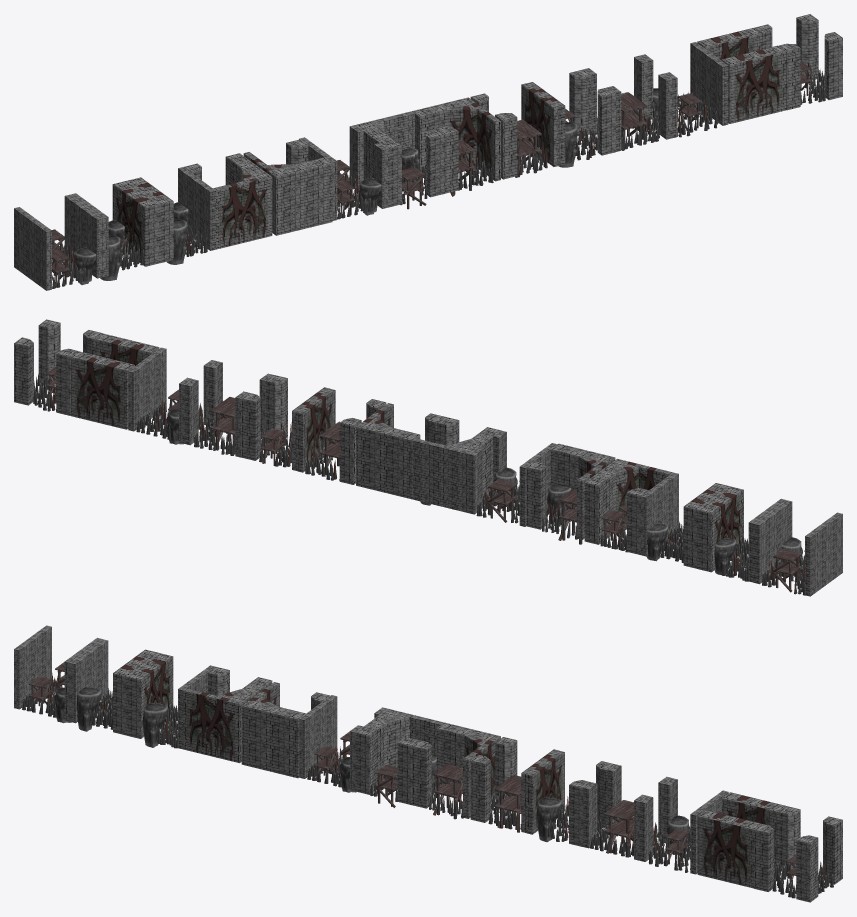
File: stage_asset.fbx
The picture shows the model from 3 angles, top to bottom: view 1: azimuth 30°, elevation 25°; view 2: azimuth 150°, elevation 25°; view 3: azimuth 330°, elevation 25°; orthographic projection.
Visible parts, largest first — view 1: wall_stage4_3 (×4), wall_stage4_4 (×4), wall10, wall_stage4_12, polySurface179 (×2), polySurface341, polySurface267 (×2), wall_stage4_6 (×2), wall_stage4_1 (×2), polySurface344, polySurface258, polySurface343 (+26 smaller); view 2: wall_stage4_3 (×4), wall_stage4_4 (×3), wall10, wall_stage4_11, polySurface179 (×2), wall_stage4_1 (×3), polySurface341, polySurface267 (×2), wall_stage4_5 (×2), polySurface344, polySurface258, L_Scaffolding_square1 (×2) (+27 smaller); view 3: wall_stage4_3 (×4), wall_stage4_4 (×4), wall_stage4_12, polySurface179 (×2), wall_stage4_1 (×3), wall10, polySurface343, polySurface267 (×2), wall_stage4_6 (×2), wall_stage4_5 (×2), polySurface342, wall_stage4_11 (+29 smaller).
Boxes of the visible parts, bbox=[...] form: wall_stage4_3 (×4): bbox=[225, 97, 475, 235]; wall_stage4_4 (×4): bbox=[213, 98, 500, 249]; wall10: bbox=[14, 194, 102, 290]; wall_stage4_12: bbox=[721, 45, 785, 123]; polySurface179 (×2): bbox=[299, 42, 728, 220]; polySurface341: bbox=[112, 180, 159, 266]; polySurface267 (×2): bbox=[521, 82, 565, 166]; wall_stage4_6 (×2): bbox=[495, 69, 591, 179]; wall_stage4_1 (×2): bbox=[426, 127, 458, 197]; polySurface344: bbox=[178, 167, 215, 250]; polySurface258: bbox=[634, 55, 671, 139]; polySurface343: bbox=[127, 177, 173, 263]; wall_stage4_3 (×4): bbox=[356, 422, 627, 544]; wall_stage4_4 (×3): bbox=[412, 438, 673, 539]; wall10: bbox=[754, 500, 842, 596]; wall_stage4_11: bbox=[70, 351, 134, 429]; polySurface179 (×2): bbox=[128, 347, 557, 526]; wall_stage4_1 (×3): bbox=[437, 416, 648, 554]; polySurface341: bbox=[697, 486, 743, 572]; polySurface267 (×2): bbox=[292, 387, 335, 472]; wall_stage4_5 (×2): bbox=[265, 375, 361, 484]; polySurface344: bbox=[641, 472, 678, 556]; polySurface258: bbox=[184, 361, 222, 445]; L_Scaffolding_square1 (×2): bbox=[486, 479, 801, 592]; wall_stage4_3 (×4): bbox=[226, 677, 494, 794]; wall_stage4_4 (×4): bbox=[183, 682, 500, 818]; wall_stage4_12: bbox=[697, 810, 761, 888]; polySurface179 (×2): bbox=[299, 695, 728, 874]; wall_stage4_1 (×3): bbox=[208, 667, 431, 808]; wall10: bbox=[14, 625, 102, 721]; polySurface343: bbox=[127, 653, 173, 738]; polySurface267 (×2): bbox=[521, 749, 564, 834]; wall_stage4_6 (×2): bbox=[470, 755, 615, 828]; wall_stage4_5 (×2): bbox=[495, 737, 590, 846]; polySurface342: bbox=[70, 639, 108, 723]; wall_stage4_11: bbox=[722, 792, 785, 867].
Size of the model in its own units: 424 by 36 by 30.88.
Materials: 8 (8 with a texture image).
